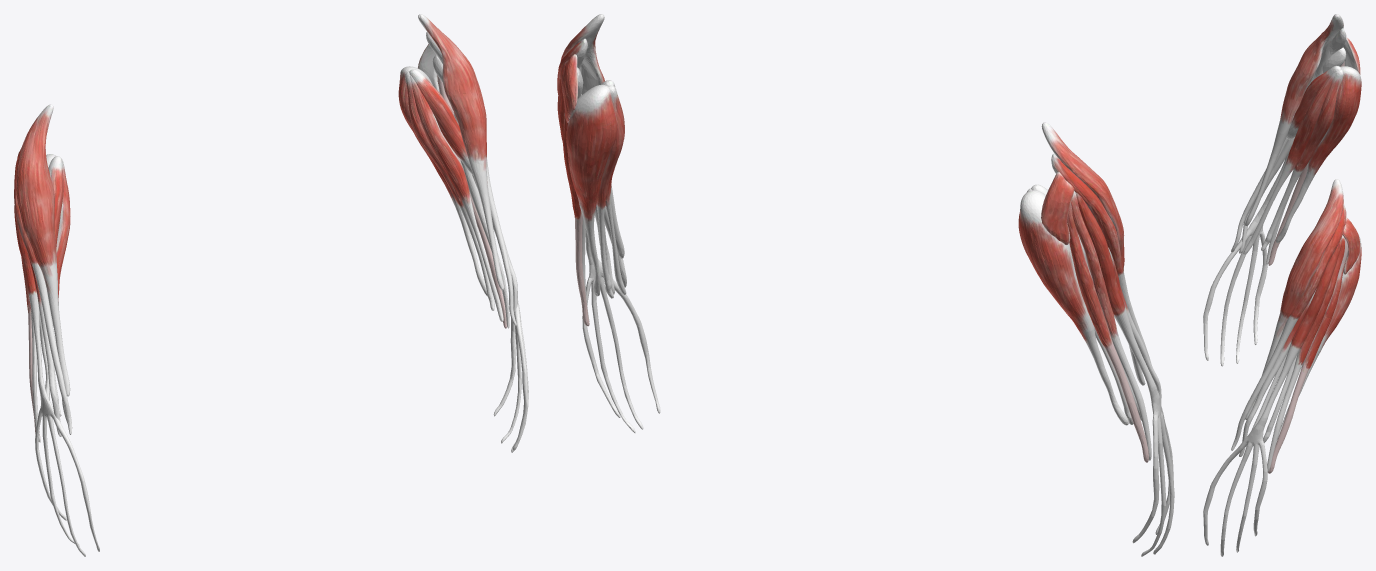
Rendered from SubTool-8-4190768.OBJ.
3 renders of one model, left to right at view 1: azimuth 30°, elevation 25°; view 2: azimuth 150°, elevation 25°; view 3: azimuth 270°, elevation 25°, orthographic. The views are drawn at different scales.
Parts seen in each view (by area): view 1: Group20086; view 2: Group20086; view 3: Group20086.
Part boxes in pixels (box(x1,y1,x2,y2)): Group20086: box(14, 14, 528, 556); Group20086: box(557, 14, 1174, 556); Group20086: box(1203, 14, 1361, 556).
Size of the model in its own units: 26.15 by 20.81 by 8.18.
Materials: 1 (1 with a texture image).
